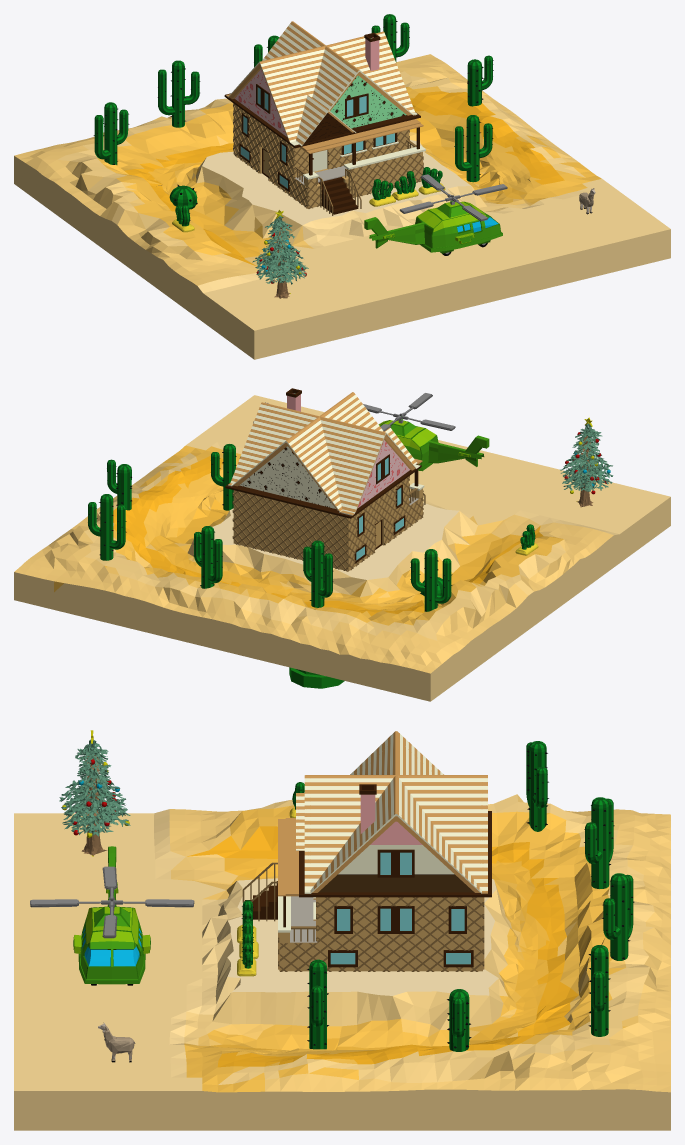
The picture shows the model from 3 angles, top to bottom: view 1: azimuth 30°, elevation 25°; view 2: azimuth 150°, elevation 25°; view 3: azimuth 270°, elevation 25°; orthographic projection. The views are drawn at different scales.
Parts seen in each view (by area): view 1: Cube.001, Cube.1102, VEHICLES_HELICOPTER, OBJRANDOM_CHRISTMAS_TREE, Cylinder.037, Cylinder.044, Cylinder.045, Cylinder.038, Cylinder.042, Cylinder.039, Sphere.023, Cylinder.040; view 2: Cube.001, Cube.1102, VEHICLES_HELICOPTER, OBJRANDOM_CHRISTMAS_TREE, Cylinder.042, Cylinder.045, Cylinder.044, Cylinder.043, Cylinder.037, Cylinder.038, UNDERGROUND_PIPES; view 3: Cube.001, Cube.1102, VEHICLES_HELICOPTER, OBJRANDOM_CHRISTMAS_TREE, Cylinder.043, Cylinder.044, Cylinder.045, Cylinder.042, Cylinder.037, Cylinder.038, ANIMAL_LLAMA, Cylinder.041.
Boxes of the visible parts, left/top/right/bottom form: Cube.001: left=14, top=54, right=670, bottom=359; Cube.1102: left=224, top=21, right=425, bottom=215; VEHICLES_HELICOPTER: left=364, top=174, right=507, bottom=255; OBJRANDOM_CHRISTMAS_TREE: left=252, top=210, right=308, bottom=298; Cylinder.037: left=454, top=115, right=493, bottom=182; Cylinder.044: left=157, top=60, right=200, bottom=127; Cylinder.045: left=93, top=102, right=129, bottom=164; Cylinder.038: left=467, top=55, right=493, bottom=106; Cylinder.042: left=371, top=14, right=409, bottom=62; Cylinder.039: left=369, top=179, right=395, bottom=206; Sphere.023: left=169, top=184, right=197, bottom=209; Cylinder.040: left=392, top=171, right=418, bottom=200; Cube.001: left=14, top=395, right=670, bottom=701; Cube.1102: left=225, top=388, right=425, bottom=571; VEHICLES_HELICOPTER: left=363, top=393, right=489, bottom=471; OBJRANDOM_CHRISTMAS_TREE: left=560, top=417, right=613, bottom=507; Cylinder.042: left=88, top=494, right=126, bottom=560; Cylinder.045: left=410, top=549, right=452, bottom=611; Cylinder.044: left=303, top=540, right=333, bottom=607; Cylinder.043: left=193, top=526, right=222, bottom=588; Cylinder.037: left=211, top=444, right=240, bottom=510; Cylinder.038: left=107, top=459, right=131, bottom=510; UNDERGROUND_PIPES: left=289, top=667, right=344, bottom=688; Cube.001: left=14, top=794, right=670, bottom=1130; Cube.1102: left=242, top=731, right=491, bottom=971; VEHICLES_HELICOPTER: left=30, top=846, right=194, bottom=985; OBJRANDOM_CHRISTMAS_TREE: left=59, top=730, right=130, bottom=856; Cylinder.043: left=602, top=873, right=634, bottom=960; Cylinder.044: left=584, top=797, right=614, bottom=888; Cylinder.045: left=526, top=741, right=548, bottom=831; Cylinder.042: left=588, top=945, right=610, bottom=1036; Cylinder.037: left=307, top=959, right=328, bottom=1049; Cylinder.038: left=447, top=989, right=471, bottom=1051; ANIMAL_LLAMA: left=98, top=1022, right=135, bottom=1062; Cylinder.041: left=237, top=933, right=256, bottom=976.
Bounding box in the file's own units: 4002 × 2210 × 4001.
Materials: 31 (3 with a texture image).
